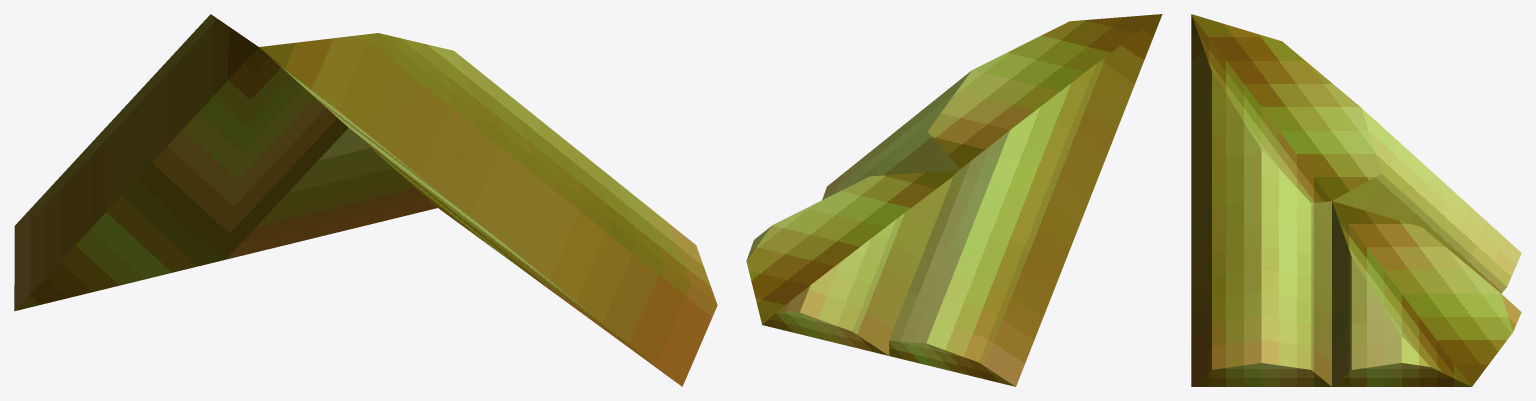
File: orient_green_roofing_corner.obj
3 views of the same model, side by side, from view 1: azimuth 30°, elevation 25°; view 2: azimuth 150°, elevation 25°; view 3: azimuth 270°, elevation 25° (orthographic). The views are drawn at different scales.
Visible parts, largest first — view 1: Cylinder.001; view 2: Cylinder.001; view 3: Cylinder.001.
Part boxes in pixels (x1,y1,x2,y2): Cylinder.001: [14, 14, 717, 386]; Cylinder.001: [746, 14, 1162, 386]; Cylinder.001: [1191, 14, 1521, 386].
Size of the model in its own units: 1.18 by 1 by 1.18.
